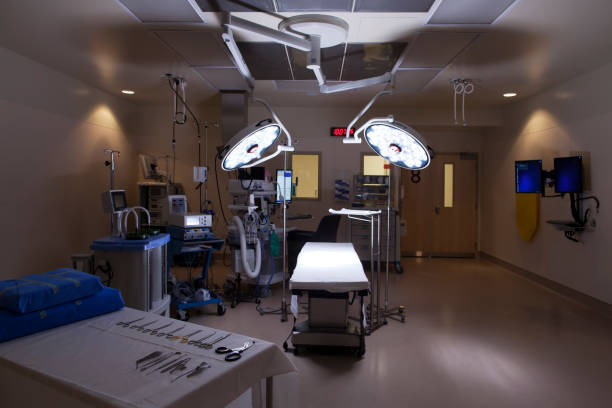bedside_monitor: (275, 168, 294, 204), (111, 189, 129, 212)
computer: (553, 156, 585, 193), (514, 158, 543, 192)
door_handle: (435, 205, 441, 215)
electrosurgical_unit: (178, 227, 220, 243)
iv_pole: (184, 114, 210, 207), (107, 146, 115, 245)
keyboard: (545, 219, 584, 226)
medical_drawer: (343, 208, 402, 263)
operating_bed: (288, 241, 365, 358)
surgical_instrument: (105, 312, 266, 388)
surgical_light: (365, 116, 434, 178), (214, 123, 294, 171)
utility_cart: (1, 267, 296, 408), (331, 203, 381, 333), (157, 238, 226, 321)
